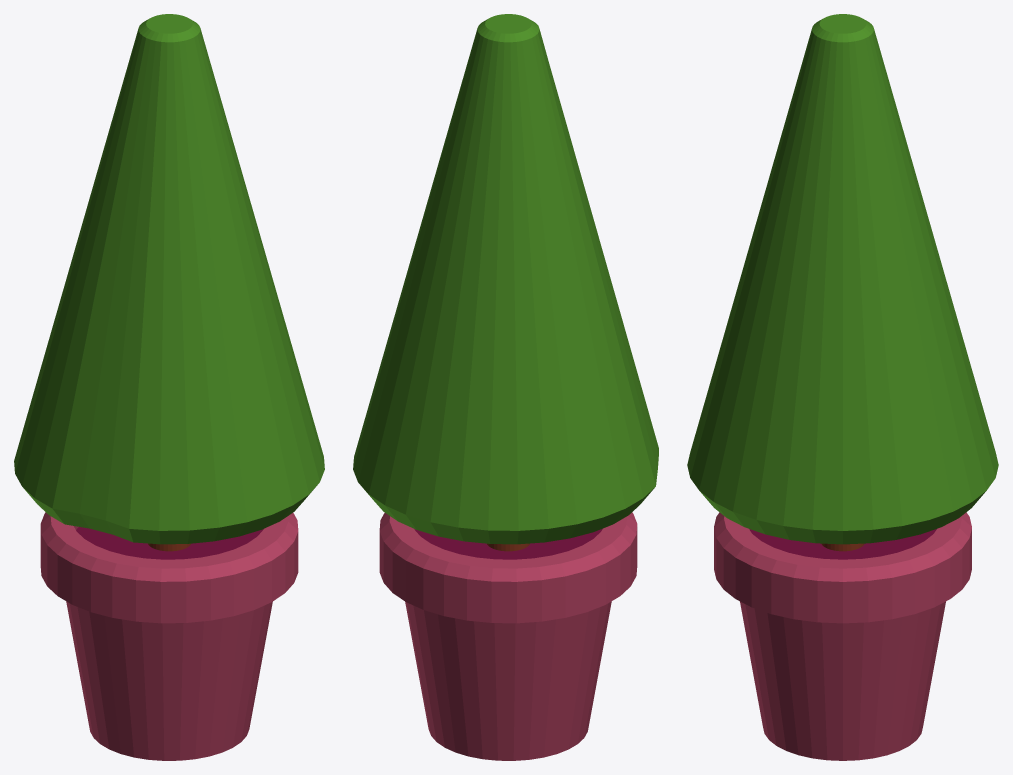
File: tree_3.fbx
3 views of the same model, side by side, from view 1: azimuth 30°, elevation 25°; view 2: azimuth 150°, elevation 25°; view 3: azimuth 270°, elevation 25° (orthographic).
Visible parts, largest first — view 1: Цилиндр.003; view 2: Цилиндр.003; view 3: Цилиндр.003.
Part boxes in pixels (box(x1,y1,x2,y2)): Цилиндр.003: box(14, 14, 324, 760); Цилиндр.003: box(353, 14, 658, 760); Цилиндр.003: box(687, 14, 998, 760).
Bounding box in the file's own units: 144 × 359 × 144.
